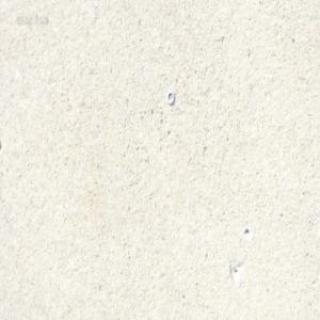Washertrack_idkeyframe: (166, 89, 173, 104)
